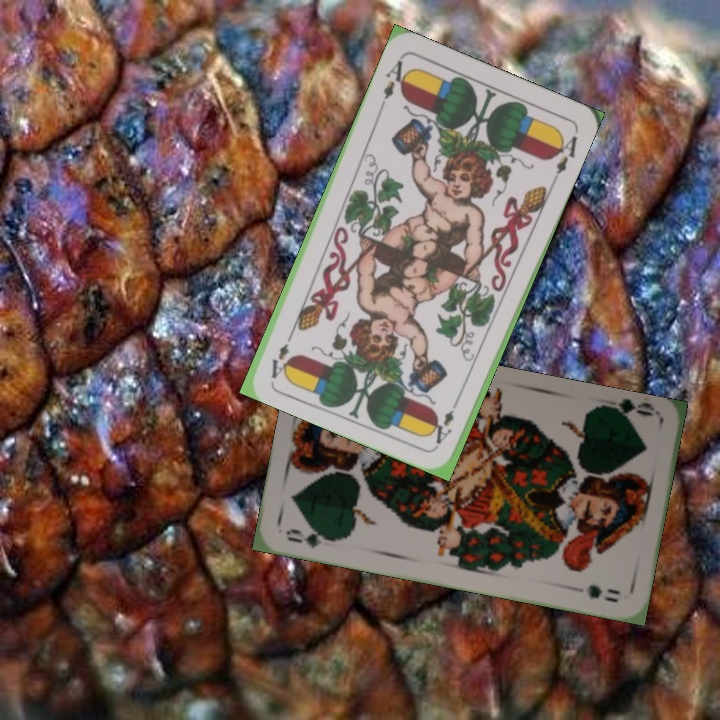EA: (376, 53, 413, 110), (432, 392, 463, 447)
GO: (600, 396, 659, 426), (281, 524, 339, 551)
